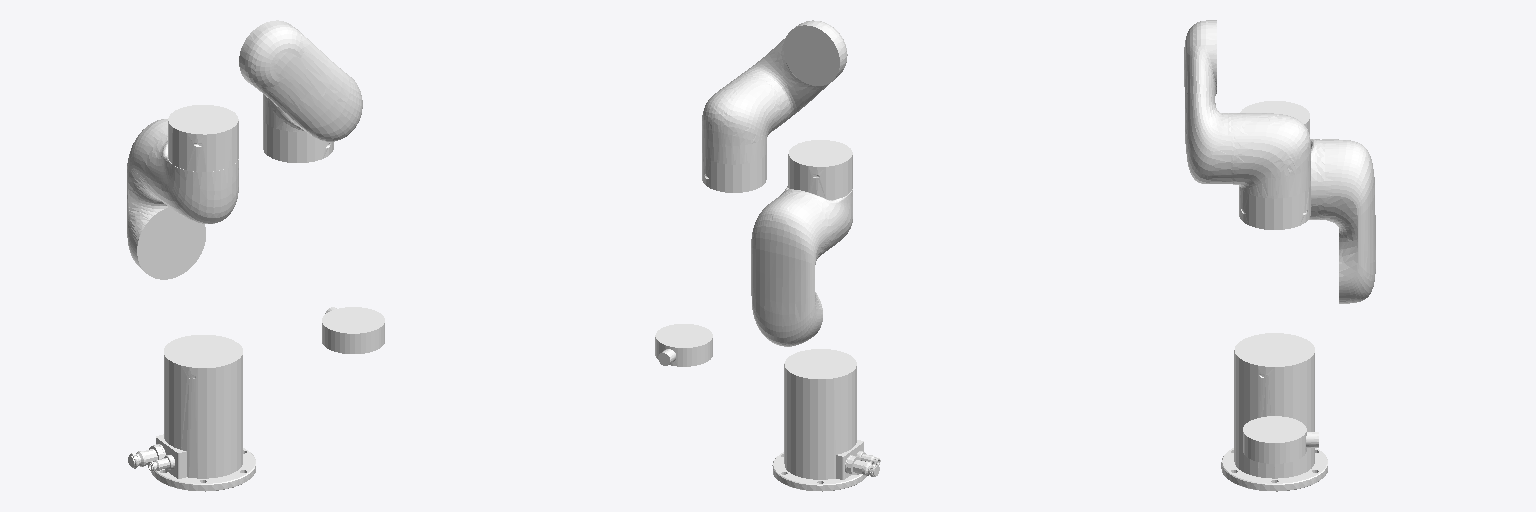
URDF robot description (converted_robot):
<?xml version="1.0" ?>
<robot name="converted_robot">
   <link name="world">
      <inertial>
         <origin xyz="0.0 0.0 0.0" rpy="0.0 0.0 0.0"/>
         <mass value="0.0"/>
         <inertia ixx="0.0" iyy="0.0" izz="0.0" ixy="0" ixz="0" iyz="0"/>
      </inertial>
   </link>
   <link name="link_base">
      <inertial>
         <origin xyz="-0.021131 -0.0016302 0.056488" rpy="0.44023105215876746 -0.13013625350079439 1.5177281818052935"/>
         <mass value="0.88556"/>
         <inertia ixx="0.00382023" iyy="0.00335282" izz="0.00167725" ixy="0" ixz="0" iyz="0"/>
      </inertial>
      <visual name="link_base">
         <origin xyz="-0.0023309208653140303 7.635034261041256e-05 0.06466085868603501" rpy="0.05186434360054182 -0.0004097027182401458 1.5199535784675313"/>
         <geometry>
            <mesh filename="converted_link_base.stl"/>
         </geometry>
         <material name="white"/>
      </visual>
   </link>
   <link name="world2link_base_fixed">
      <inertial>
         <origin xyz="0.0 0.0 0.0" rpy="0.0 0.0 0.0"/>
         <mass value="0.001"/>
         <inertia ixx="1e-09" iyy="1e-09" izz="1e-09" ixy="0" ixz="0" iyz="0"/>
      </inertial>
   </link>
   <joint type="fixed" name="world2link_base_fixed">
      <parent link="world"/>
      <child link="world2link_base_fixed"/>
      <origin xyz="0.0 0.0 0.12" rpy="0.0 0.0 0.0"/>
   </joint>
   <joint type="fixed" name="world2link_base_fixed_offset">
      <parent link="world2link_base_fixed"/>
      <child link="link_base"/>
      <origin xyz="-0.0 -0.0 -0.0" rpy="0.0 0.0 0.0"/>
   </joint>
   <link name="link1">
      <inertial>
         <origin xyz="-0.0002 0.02905 -0.01233" rpy="-0.4080989784149497 -0.017863810427217963 -0.04272503237136302"/>
         <mass value="2.382"/>
         <inertia ixx="0.00569127" iyy="0.00533384" izz="0.00293865" ixy="0" ixz="0" iyz="0"/>
      </inertial>
      <visual name="link1">
         <origin xyz="-0.00014185542981678083 0.007463847413091799 -0.027114209844203114" rpy="-0.33359731158682326 0.00430343361442187 -0.0013704278840867556"/>
         <geometry>
            <mesh filename="converted_link1.stl"/>
         </geometry>
         <material name="white"/>
      </visual>
   </link>
   <link name="joint1">
      <inertial>
         <origin xyz="0.0 0.0 0.0" rpy="0.0 0.0 0.0"/>
         <mass value="0.001"/>
         <inertia ixx="1e-09" iyy="1e-09" izz="1e-09" ixy="0" ixz="0" iyz="0"/>
      </inertial>
   </link>
   <joint type="revolute" name="joint1">
      <parent link="link_base"/>
      <child link="joint1"/>
      <origin xyz="0.0 0.0 0.267" rpy="0.0 0.0 0.0"/>
      <axis xyz="0.0 0.0 1.0"/>
      <limit lower="-6.28319" upper="6.28319" effort="100" velocity="100"/>
   </joint>
   <joint type="fixed" name="joint1_offset">
      <parent link="joint1"/>
      <child link="link1"/>
      <origin xyz="-0.0 -0.0 -0.0" rpy="0.0 0.0 0.0"/>
   </joint>
   <link name="link2">
      <inertial>
         <origin xyz="0.00022 -0.12856 0.01735" rpy="2.089839775631659 -0.01617916364415617 -0.008620557950960617"/>
         <mass value="1.869"/>
         <inertia ixx="0.00959898" iyy="0.00937717" izz="0.00201315" ixy="0" ixz="0" iyz="0"/>
      </inertial>
      <visual name="link2">
         <origin xyz="-8.518074375848454e-05 -0.0912454874136636 0.04845536841521912" rpy="2.163953610241175 -0.002072664571098448 -0.0016331238444717844"/>
         <geometry>
            <mesh filename="converted_link2.stl"/>
         </geometry>
         <material name="white"/>
      </visual>
   </link>
   <link name="joint2">
      <inertial>
         <origin xyz="0.0 0.0 0.0" rpy="0.0 0.0 0.0"/>
         <mass value="0.001"/>
         <inertia ixx="1e-09" iyy="1e-09" izz="1e-09" ixy="0" ixz="0" iyz="0"/>
      </inertial>
   </link>
   <joint type="revolute" name="joint2">
      <parent link="link1"/>
      <child link="joint2"/>
      <origin xyz="0.0 0.0 0.0" rpy="-1.5707963267948957 0.0 0.0"/>
      <axis xyz="0.0 0.0 1.0"/>
      <limit lower="-2.059" upper="2.0944" effort="100" velocity="100"/>
   </joint>
   <joint type="fixed" name="joint2_offset">
      <parent link="joint2"/>
      <child link="link2"/>
      <origin xyz="-0.0 -0.0 -0.0" rpy="0.0 0.0 0.0"/>
   </joint>
   <link name="link3">
      <inertial>
         <origin xyz="0.0466 -0.02463 -0.00768" rpy="0.6444127540677473 0.5687517069246195 0.10346249911406036"/>
         <mass value="1.6383"/>
         <inertia ixx="0.00351721" iyy="0.00294089" izz="0.00195868" ixy="0" ixz="0" iyz="0"/>
      </inertial>
      <visual name="link3">
         <origin xyz="0.031160491290339355 0.002018090821205139 -0.022566213029050968" rpy="0.40910184577669273 0.6031276097571103 0.2614808760164453"/>
         <geometry>
            <mesh filename="converted_link3.stl"/>
         </geometry>
         <material name="white"/>
      </visual>
   </link>
   <link name="joint3">
      <inertial>
         <origin xyz="0.0 0.0 0.0" rpy="0.0 0.0 0.0"/>
         <mass value="0.001"/>
         <inertia ixx="1e-09" iyy="1e-09" izz="1e-09" ixy="0" ixz="0" iyz="0"/>
      </inertial>
   </link>
   <joint type="revolute" name="joint3">
      <parent link="link2"/>
      <child link="joint3"/>
      <origin xyz="0.0 -0.293 0.0" rpy="1.5707963267948963 0.0 0.0"/>
      <axis xyz="0.0 0.0 1.0"/>
      <limit lower="-6.28319" upper="6.28319" effort="100" velocity="100"/>
   </joint>
   <joint type="fixed" name="joint3_offset">
      <parent link="joint3"/>
      <child link="link3"/>
      <origin xyz="-0.0 -0.0 -0.0" rpy="0.0 0.0 0.0"/>
   </joint>
   <link name="link4">
      <inertial>
         <origin xyz="0.07047 -0.11575 0.012" rpy="2.211979235177638 -0.629020395199348 0.029707593805708754"/>
         <mass value="1.7269"/>
         <inertia ixx="0.00657137" iyy="0.00647948" izz="0.00186763" ixy="0" ixz="0" iyz="0"/>
      </inertial>
      <visual name="link4">
         <origin xyz="0.058948569873530324 -0.07610492971052367 0.04029048793629515" rpy="2.1383648637422366 0.17406913096631826 0.6641344334665397"/>
         <geometry>
            <mesh filename="converted_link4.stl"/>
         </geometry>
         <material name="white"/>
      </visual>
   </link>
   <link name="joint4">
      <inertial>
         <origin xyz="0.0 0.0 0.0" rpy="0.0 0.0 0.0"/>
         <mass value="0.001"/>
         <inertia ixx="1e-09" iyy="1e-09" izz="1e-09" ixy="0" ixz="0" iyz="0"/>
      </inertial>
   </link>
   <joint type="revolute" name="joint4">
      <parent link="link3"/>
      <child link="joint4"/>
      <origin xyz="0.0525 0.0 0.0" rpy="1.5707963267948963 0.0 0.0"/>
      <axis xyz="0.0 0.0 1.0"/>
      <limit lower="-0.19198" upper="3.927" effort="100" velocity="100"/>
   </joint>
   <joint type="fixed" name="joint4_offset">
      <parent link="joint4"/>
      <child link="link4"/>
      <origin xyz="-0.0 -0.0 -0.0" rpy="0.0 0.0 0.0"/>
   </joint>
   <link name="link5">
      <inertial>
         <origin xyz="-0.00032 0.01604 -0.026" rpy="-0.060862747127358625 0.002444739360476733 0.042364854361127045"/>
         <mass value="1.3203"/>
         <inertia ixx="0.00534729" iyy="0.00499076" izz="0.0013489" ixy="0" ixz="0" iyz="0"/>
      </inertial>
      <visual name="link5">
         <origin xyz="-0.00016551877548060605 0.03179182745101396 -0.07229184169217438" rpy="-0.28983912827524144 0.00373306717255395 0.016070463287903958"/>
         <geometry>
            <mesh filename="converted_link5.stl"/>
         </geometry>
         <material name="white"/>
      </visual>
   </link>
   <link name="joint5">
      <inertial>
         <origin xyz="0.0 0.0 0.0" rpy="0.0 0.0 0.0"/>
         <mass value="0.001"/>
         <inertia ixx="1e-09" iyy="1e-09" izz="1e-09" ixy="0" ixz="0" iyz="0"/>
      </inertial>
   </link>
   <joint type="revolute" name="joint5">
      <parent link="link4"/>
      <child link="joint5"/>
      <origin xyz="0.0775 -0.3425 0.0" rpy="1.5707963267948963 0.0 0.0"/>
      <axis xyz="0.0 0.0 1.0"/>
      <limit lower="-6.28319" upper="6.28319" effort="100" velocity="100"/>
   </joint>
   <joint type="fixed" name="joint5_offset">
      <parent link="joint5"/>
      <child link="link5"/>
      <origin xyz="-0.0 -0.0 -0.0" rpy="0.0 0.0 0.0"/>
   </joint>
   <link name="link6">
      <inertial>
         <origin xyz="0.06469 0.03278 0.02141" rpy="-2.5954348069975257 -1.278629910190865 0.0043130309212413565"/>
         <mass value="1.325"/>
         <inertia ixx="0.00245421" iyy="0.00221646" izz="0.00107273" ixy="0" ixz="0" iyz="0"/>
      </inertial>
      <visual name="link6">
         <origin xyz="0.04899680641575949 0.011248594198398944 0.009047721878430306" rpy="-2.9280362054624334 -1.279450294115471 0.08501520035786547"/>
         <geometry>
            <mesh filename="converted_link6.stl"/>
         </geometry>
         <material name="white"/>
      </visual>
   </link>
   <link name="joint6">
      <inertial>
         <origin xyz="0.0 0.0 0.0" rpy="0.0 0.0 0.0"/>
         <mass value="0.001"/>
         <inertia ixx="1e-09" iyy="1e-09" izz="1e-09" ixy="0" ixz="0" iyz="0"/>
      </inertial>
   </link>
   <joint type="revolute" name="joint6">
      <parent link="link5"/>
      <child link="joint6"/>
      <origin xyz="0.0 0.0 0.0" rpy="1.5707963267948963 0.0 0.0"/>
      <axis xyz="0.0 0.0 1.0"/>
      <limit lower="-1.69297" upper="3.14159" effort="100" velocity="100"/>
   </joint>
   <joint type="fixed" name="joint6_offset">
      <parent link="joint6"/>
      <child link="link6"/>
      <origin xyz="-0.0 -0.0 -0.0" rpy="0.0 0.0 0.0"/>
   </joint>
   <link name="link7">
      <inertial>
         <origin xyz="0.0 -0.00677 -0.01098" rpy="3.141592653589793 -1.521839417373044 -1.5707963267948966"/>
         <mass value="0.17"/>
         <inertia ixx="0.000132176" iyy="9.3e-05" izz="5.85236e-05" ixy="0" ixz="0" iyz="0"/>
      </inertial>
      <visual name="end_tool">
         <origin xyz="3.4268701643423586e-08 -0.001435304389793365 -0.013516014948721122" rpy="-3.1415761422693964 -1.5687955686076311 -1.5707963267948917"/>
         <geometry>
            <mesh filename="converted_end_tool.stl"/>
         </geometry>
         <material name="white"/>
      </visual>
   </link>
   <link name="joint7">
      <inertial>
         <origin xyz="0.0 0.0 0.0" rpy="0.0 0.0 0.0"/>
         <mass value="0.001"/>
         <inertia ixx="1e-09" iyy="1e-09" izz="1e-09" ixy="0" ixz="0" iyz="0"/>
      </inertial>
   </link>
   <joint type="revolute" name="joint7">
      <parent link="link6"/>
      <child link="joint7"/>
      <origin xyz="0.076 0.097 0.0" rpy="-1.5707963267948957 0.0 0.0"/>
      <axis xyz="0.0 0.0 1.0"/>
      <limit lower="-6.28319" upper="6.28319" effort="100" velocity="100"/>
   </joint>
   <joint type="fixed" name="joint7_offset">
      <parent link="joint7"/>
      <child link="link7"/>
      <origin xyz="-0.0 -0.0 -0.0" rpy="0.0 0.0 0.0"/>
   </joint>
   <!-- <link name="xarm_gripper_base_link">
      <inertial>
         <origin xyz="-0.00065489 -0.0018497 0.048028" rpy="-0.1436399094689611 -0.012266877462666637 0.001839979910726"/>
         <mass value="0.54156"/>
         <inertia ixx="0.000471093" iyy="0.000332307" izz="0.000254799" ixy="0" ixz="0" iyz="0"/>
      </inertial>
      <visual name="base_link">
         <origin xyz="-0.0013675233777249022 0.00018071029397544007 0.04590832027619652" rpy="0.03567861154888999 -0.06311112110604866 -0.00044563792998500093"/>
         <geometry>
            <mesh filename="converted_base_link.stl"/>
         </geometry>
         <material name="white"/>
      </visual>
   </link>
   <link name="link72xarm_gripper_base_link_fixed">
      <inertial>
         <origin xyz="0.0 0.0 0.0" rpy="0.0 0.0 0.0"/>
         <mass value="0.001"/>
         <inertia ixx="1e-09" iyy="1e-09" izz="1e-09" ixy="0" ixz="0" iyz="0"/>
      </inertial>
   </link>
   <joint type="fixed" name="link72xarm_gripper_base_link_fixed">
      <parent link="link7"/>
      <child link="link72xarm_gripper_base_link_fixed"/>
      <origin xyz="0.0 0.0 0.0" rpy="0.0 0.0 3.141592653589793"/>
   </joint>
   <joint type="fixed" name="link72xarm_gripper_base_link_fixed_offset">
      <parent link="link72xarm_gripper_base_link_fixed"/>
      <child link="xarm_gripper_base_link"/>
      <origin xyz="-0.0 -0.0 -0.0" rpy="0.0 0.0 0.0"/>
   </joint>
   <link name="left_outer_knuckle">
      <inertial>
         <origin xyz="0.0 0.021559 0.015181" rpy="2.145090756651822 0.0 0.0"/>
         <mass value="0.033618"/>
         <inertia ixx="1.9111e-05" iyy="1.79089e-05" izz="1.90167e-06" ixy="0" ixz="0" iyz="0"/>
      </inertial>
      <visual name="left_outer_knuckle">
         <origin xyz="2.459128747530784e-11 0.01732745566852309 0.015107389964830558" rpy="2.135531627703855 0.0 0.0"/>
         <geometry>
            <mesh filename="converted_left_outer_knuckle.stl"/>
         </geometry>
         <material name="white"/>
      </visual>
   </link>
   <link name="left_driver_joint">
      <inertial>
         <origin xyz="0.0 0.0 0.0" rpy="0.0 0.0 0.0"/>
         <mass value="0.001"/>
         <inertia ixx="1e-09" iyy="1e-09" izz="1e-09" ixy="0" ixz="0" iyz="0"/>
      </inertial>
   </link>
   <joint type="revolute" name="left_driver_joint">
      <parent link="xarm_gripper_base_link"/>
      <child link="left_driver_joint"/>
      <origin xyz="0.0 0.035 0.059098" rpy="0.0 0.0 0.0"/>
      <axis xyz="1.0 0.0 0.0"/>
      <limit lower="0.0" upper="0.85" effort="100" velocity="100"/>
   </joint>
   <joint type="fixed" name="left_driver_joint_offset">
      <parent link="left_driver_joint"/>
      <child link="left_outer_knuckle"/>
      <origin xyz="-0.0 -0.0 -0.0" rpy="0.0 0.0 0.0"/>
   </joint>
   <link name="left_finger">
      <inertial>
         <origin xyz="0.0 -0.016413 0.029258" rpy="0.0 -0.3277324649747291 1.5707963267948966"/>
         <mass value="0.048304"/>
         <inertia ixx="1.88037e-05" iyy="1.7493e-05" izz="3.56792e-06" ixy="0" ixz="0" iyz="0"/>
      </inertial>
      <visual name="left_finger">
         <origin xyz="1.4807619616801453e-05 -0.015549807258493559 0.028040098559196317" rpy="-0.0019124852754428545 -0.3651434117396668 1.5726924743770283"/>
         <geometry>
            <mesh filename="converted_left_finger.stl"/>
         </geometry>
         <material name="white"/>
      </visual>
   </link>
   <link name="left_finger_joint">
      <inertial>
         <origin xyz="0.0 0.0 0.0" rpy="0.0 0.0 0.0"/>
         <mass value="0.001"/>
         <inertia ixx="1e-09" iyy="1e-09" izz="1e-09" ixy="0" ixz="0" iyz="0"/>
      </inertial>
   </link>
   <joint type="revolute" name="left_finger_joint">
      <parent link="left_outer_knuckle"/>
      <child link="left_finger_joint"/>
      <origin xyz="0.0 0.035465 0.042039" rpy="0.0 0.0 0.0"/>
      <axis xyz="-1.0 0.0 0.0"/>
      <limit lower="0.0" upper="0.85" effort="100" velocity="100"/>
   </joint>
   <joint type="fixed" name="left_finger_joint_offset">
      <parent link="left_finger_joint"/>
      <child link="left_finger"/>
      <origin xyz="-0.0 -0.0 -0.0" rpy="0.0 0.0 0.0"/>
   </joint>
   <link name="left_inner_knuckle">
      <inertial>
         <origin xyz="1.86601e-06 0.0220468 0.0261335" rpy="-2.8572677202687302e-05 0.7007746676036897 1.5707964243166743"/>
         <mass value="0.0230126"/>
         <inertia ixx="8.34216e-06" iyy="6.0949e-06" izz="2.75601e-06" ixy="0" ixz="0" iyz="0"/>
      </inertial>
      <visual name="left_inner_knuckle">
         <origin xyz="2.8477847106074318e-05 0.020923749754326485 0.02480264390787294" rpy="0.0027959128572787595 0.7007662187921664 1.5706785731507964"/>
         <geometry>
            <mesh filename="converted_left_inner_knuckle.stl"/>
         </geometry>
         <material name="white"/>
      </visual>
   </link>
   <link name="left_inner_knuckle_joint">
      <inertial>
         <origin xyz="0.0 0.0 0.0" rpy="0.0 0.0 0.0"/>
         <mass value="0.001"/>
         <inertia ixx="1e-09" iyy="1e-09" izz="1e-09" ixy="0" ixz="0" iyz="0"/>
      </inertial>
   </link>
   <joint type="revolute" name="left_inner_knuckle_joint">
      <parent link="xarm_gripper_base_link"/>
      <child link="left_inner_knuckle_joint"/>
      <origin xyz="0.0 0.02 0.074098" rpy="0.0 0.0 0.0"/>
      <axis xyz="1.0 0.0 0.0"/>
      <limit lower="0.0" upper="0.85" effort="100" velocity="100"/>
   </joint>
   <joint type="fixed" name="left_inner_knuckle_joint_offset">
      <parent link="left_inner_knuckle_joint"/>
      <child link="left_inner_knuckle"/>
      <origin xyz="-0.0 -0.0 -0.0" rpy="0.0 0.0 0.0"/>
   </joint>
   <link name="right_outer_knuckle">
      <inertial>
         <origin xyz="0.0 -0.021559 0.015181" rpy="0.9965018969379715 0.0 0.0"/>
         <mass value="0.033618"/>
         <inertia ixx="1.9111e-05" iyy="1.79089e-05" izz="1.90167e-06" ixy="0" ixz="0" iyz="0"/>
      </inertial>
      <visual name="right_outer_knuckle">
         <origin xyz="-2.459128747530784e-11 -0.01732745566852309 0.015107389964830558" rpy="1.0060610258859382 0.0 0.0"/>
         <geometry>
            <mesh filename="converted_right_outer_knuckle.stl"/>
         </geometry>
         <material name="white"/>
      </visual>
   </link>
   <link name="right_driver_joint">
      <inertial>
         <origin xyz="0.0 0.0 0.0" rpy="0.0 0.0 0.0"/>
         <mass value="0.001"/>
         <inertia ixx="1e-09" iyy="1e-09" izz="1e-09" ixy="0" ixz="0" iyz="0"/>
      </inertial>
   </link>
   <joint type="revolute" name="right_driver_joint">
      <parent link="xarm_gripper_base_link"/>
      <child link="right_driver_joint"/>
      <origin xyz="0.0 -0.035 0.059098" rpy="0.0 0.0 0.0"/>
      <axis xyz="-1.0 0.0 0.0"/>
      <limit lower="0.0" upper="0.85" effort="100" velocity="100"/>
   </joint>
   <joint type="fixed" name="right_driver_joint_offset">
      <parent link="right_driver_joint"/>
      <child link="right_outer_knuckle"/>
      <origin xyz="-0.0 -0.0 -0.0" rpy="0.0 0.0 0.0"/>
   </joint>
   <link name="right_finger">
      <inertial>
         <origin xyz="0.0 0.016413 0.029258" rpy="0.0 0.327740836585096 1.5707963267948966"/>
         <mass value="0.048304"/>
         <inertia ixx="1.88038e-05" iyy="1.7493e-05" izz="3.56779e-06" ixy="0" ixz="0" iyz="0"/>
      </inertial>
      <visual name="right_finger">
         <origin xyz="2.8375271036235104e-05 0.015532154030621503 0.028008582622386046" rpy="-0.0036607875176823956 0.3654430266742408 1.5671143312790885"/>
         <geometry>
            <mesh filename="converted_right_finger.stl"/>
         </geometry>
         <material name="white"/>
      </visual>
   </link>
   <link name="right_finger_joint">
      <inertial>
         <origin xyz="0.0 0.0 0.0" rpy="0.0 0.0 0.0"/>
         <mass value="0.001"/>
         <inertia ixx="1e-09" iyy="1e-09" izz="1e-09" ixy="0" ixz="0" iyz="0"/>
      </inertial>
   </link>
   <joint type="revolute" name="right_finger_joint">
      <parent link="right_outer_knuckle"/>
      <child link="right_finger_joint"/>
      <origin xyz="0.0 -0.035465 0.042039" rpy="0.0 0.0 0.0"/>
      <axis xyz="1.0 0.0 0.0"/>
      <limit lower="0.0" upper="0.85" effort="100" velocity="100"/>
   </joint> -->
   <!-- <joint type="fixed" name="right_finger_joint_offset">
      <parent link="right_finger_joint"/>
      <child link="right_finger"/>
      <origin xyz="-0.0 -0.0 -0.0" rpy="0.0 0.0 0.0"/>
   </joint>
   <link name="right_inner_knuckle">
      <inertial>
         <origin xyz="1.866e-06 -0.022047 0.026133" rpy="-2.9207323546165398e-05 -0.7007410762952847 1.5707979664218303"/>
         <mass value="0.023013"/>
         <inertia ixx="8.34209e-06" iyy="6.0949e-06" izz="2.75601e-06" ixy="0" ixz="0" iyz="0"/>
      </inertial>
      <visual name="right_inner_knuckle">
         <origin xyz="-3.4343823358275674e-06 -0.02092196405530607 0.024800978324764668" rpy="-0.0003842496110302296 -0.7007279868003331 1.5708075585716363"/>
         <geometry>
            <mesh filename="converted_right_inner_knuckle.stl"/>
         </geometry>
         <material name="white"/>
      </visual>
   </link>
   <link name="right_inner_knuckle_joint">
      <inertial>
         <origin xyz="0.0 0.0 0.0" rpy="0.0 0.0 0.0"/>
         <mass value="0.001"/>
         <inertia ixx="1e-09" iyy="1e-09" izz="1e-09" ixy="0" ixz="0" iyz="0"/>
      </inertial>
   </link>
   <joint type="revolute" name="right_inner_knuckle_joint">
      <parent link="xarm_gripper_base_link"/>
      <child link="right_inner_knuckle_joint"/>
      <origin xyz="0.0 -0.02 0.074098" rpy="0.0 0.0 0.0"/>
      <axis xyz="-1.0 0.0 0.0"/>
      <limit lower="0.0" upper="0.85" effort="100" velocity="100"/>
   </joint>
   <joint type="fixed" name="right_inner_knuckle_joint_offset">
      <parent link="right_inner_knuckle_joint"/>
      <child link="right_inner_knuckle"/>
      <origin xyz="-0.0 -0.0 -0.0" rpy="0.0 0.0 0.0"/>
   </joint> -->
   <material name="white">
      <color rgba="1 1 1 1"/>
   </material>
</robot>

--- Facts derived from the render (not from the file) ---
The picture shows the robot from 3 angles, left to right: view 1: azimuth 30°, elevation 25°; view 2: azimuth 150°, elevation 25°; view 3: azimuth 270°, elevation 25°; orthographic projection.
Model converted_robot with 17 links and 16 joints (7 revolute, 9 fixed), rooted at world, posed every joint at zero.
Visible links, largest first — view 1: link2, link_base, link4, link7; view 2: link2, link4, link_base, link7; view 3: link4, link_base, link2, link7.
Link boxes in pixels (bbox=[...]): link2: bbox=[127, 105, 238, 279]; link_base: bbox=[128, 335, 255, 491]; link4: bbox=[239, 20, 362, 162]; link7: bbox=[322, 307, 384, 353]; link2: bbox=[751, 140, 852, 346]; link4: bbox=[702, 20, 847, 192]; link_base: bbox=[772, 349, 880, 491]; link7: bbox=[655, 324, 712, 366]; link4: bbox=[1184, 20, 1310, 229]; link_base: bbox=[1221, 333, 1327, 491]; link2: bbox=[1240, 101, 1375, 303]; link7: bbox=[1243, 416, 1318, 463].
Bounding box of the posed robot: 0.336 × 0.2259 × 0.6027 m (x, y, z).
4 mesh visuals loaded from 8 distinct referenced files (4 binary STL); not drawn: 4 (reference not matched to a file when rendering).